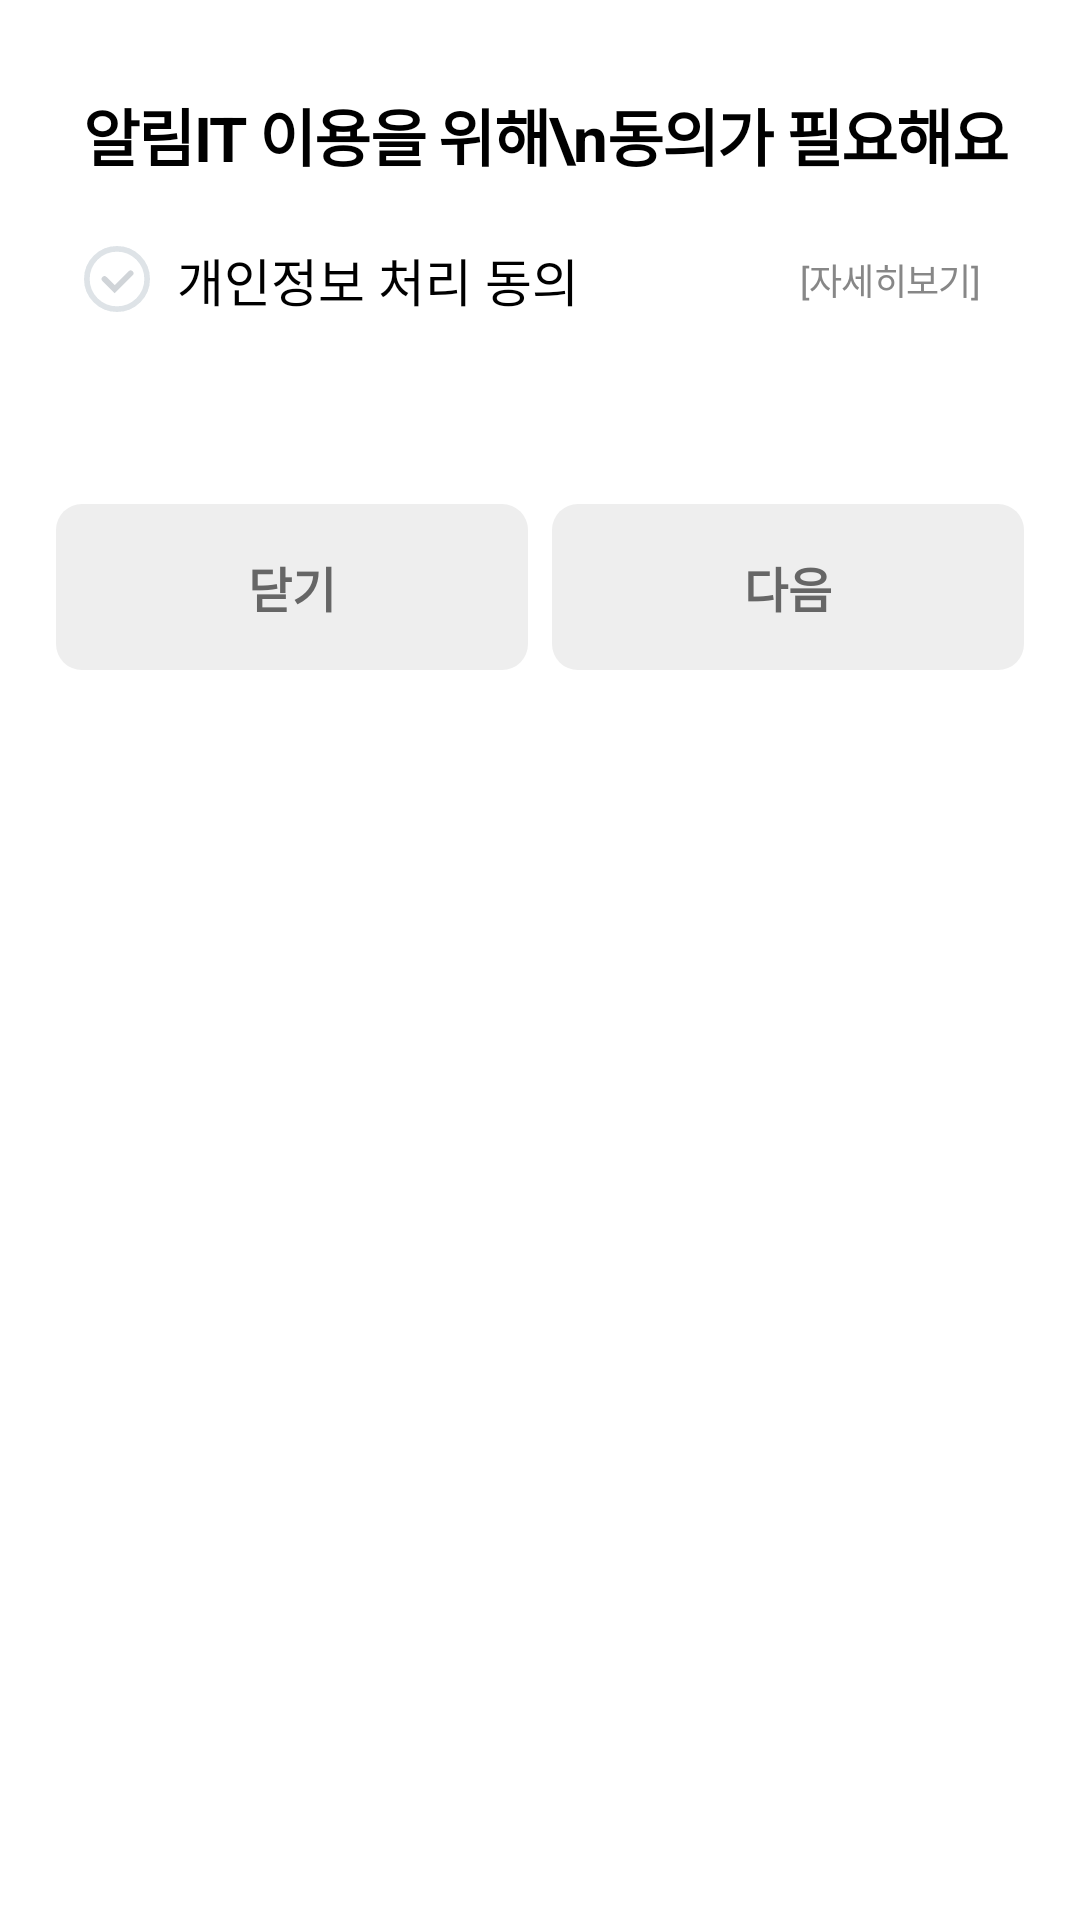

Icons on this 1080×1920 Android screen, each with its box as (x1,y1,x2,y2):
notice check off: (84,246,150,312)
